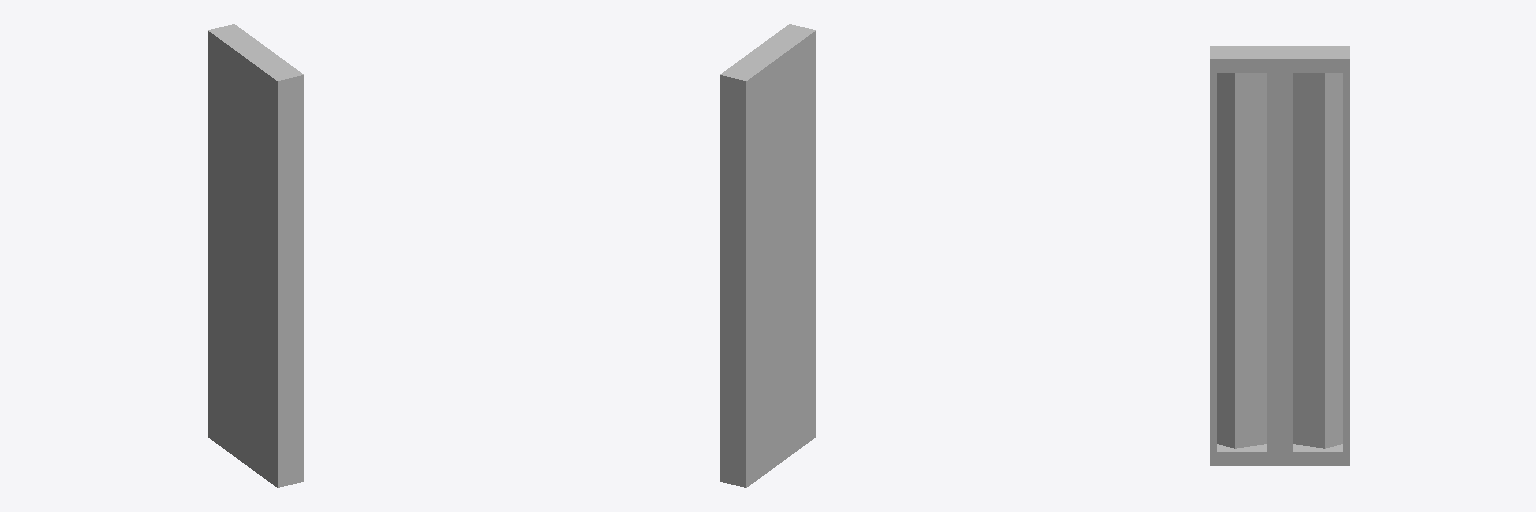
The model's file is MuralNeon002.obj.
The picture shows the model from 3 angles: view 1: azimuth 30°, elevation 25°; view 2: azimuth 150°, elevation 25°; view 3: azimuth 270°, elevation 25°; orthographic projection.
Parts seen in each view (by area): view 1: MuralNeon002_Cube.002; view 2: MuralNeon002_Cube.002; view 3: MuralNeon002_Cube.002.
Boxes of the visible parts, <box> form: MuralNeon002_Cube.002: <box>208,24,303,487</box>; MuralNeon002_Cube.002: <box>720,24,815,487</box>; MuralNeon002_Cube.002: <box>1210,46,1349,465</box>.
Size of the model in its own units: 0.4414 by 6.44 by 2.